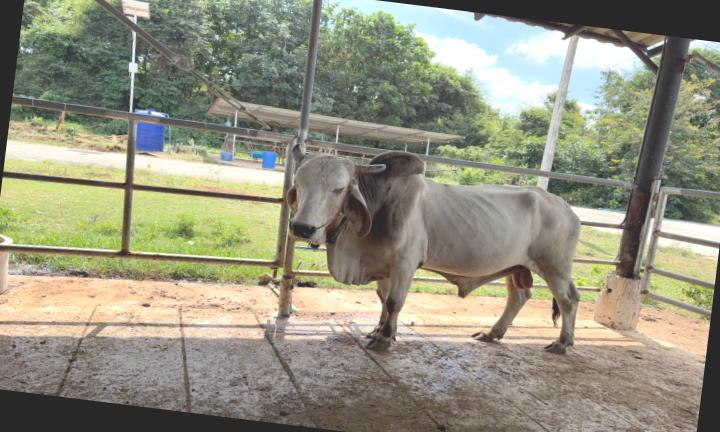Brahman: (286, 144, 580, 353)
